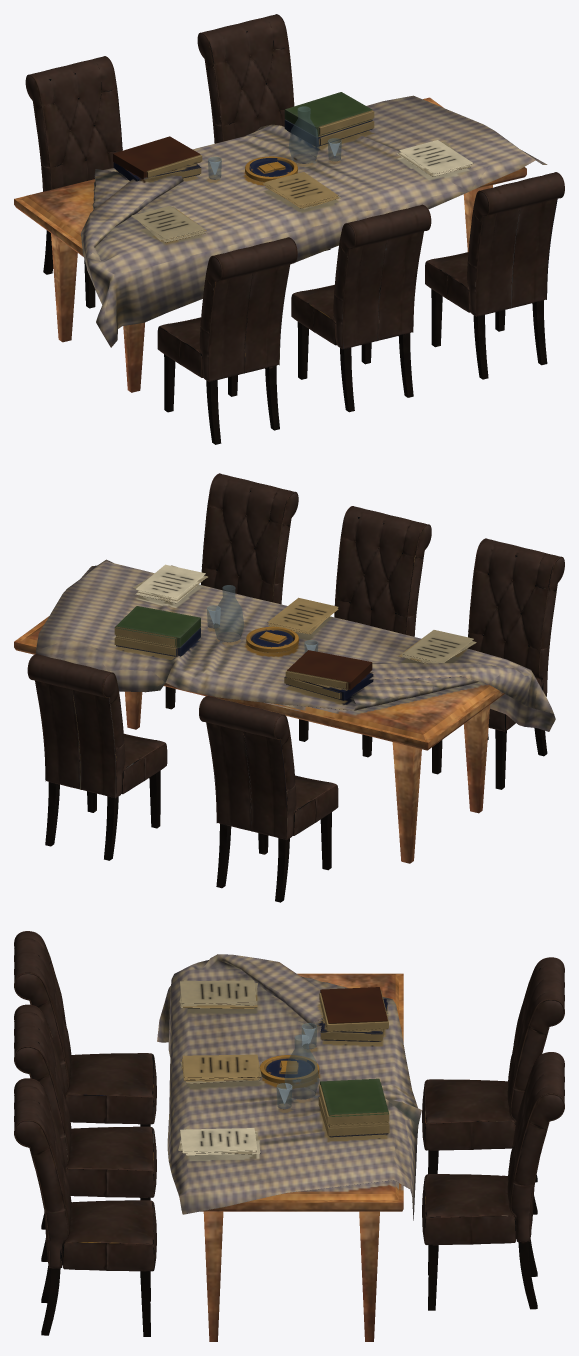
File: arbitration_table.glb
3 renders of one model, top to bottom at view 1: azimuth 30°, elevation 25°; view 2: azimuth 150°, elevation 25°; view 3: azimuth 270°, elevation 25°, orthographic. The views are drawn at different scales.
Visible parts, largest first — view 1: arbitration_table; view 2: arbitration_table; view 3: arbitration_table.
Boxes of the visible parts, box(x1,y1,x2,y2) form: arbitration_table: box(14, 14, 564, 444); arbitration_table: box(14, 473, 564, 902); arbitration_table: box(14, 931, 564, 1341).
Size of the model in its own units: 2.4 by 1.01 by 2.21.
Materials: 4 (4 with a texture image).
